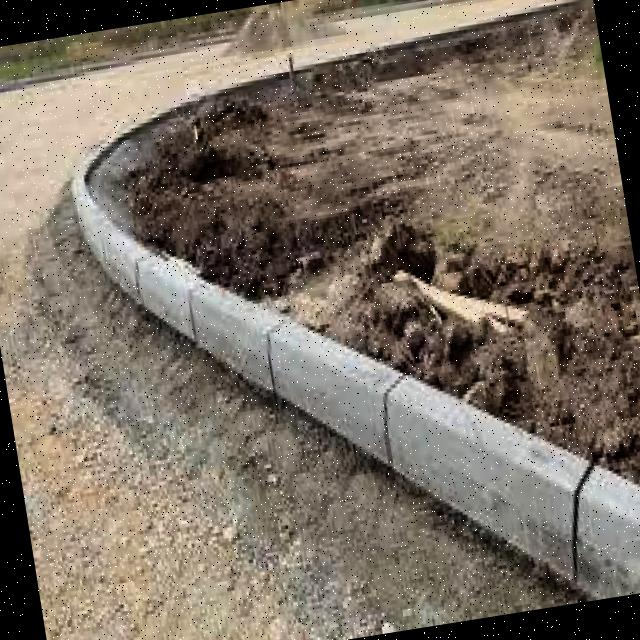curb: (376, 353, 585, 555), (265, 322, 424, 485), (502, 473, 640, 612), (156, 254, 293, 393), (73, 185, 168, 305)
